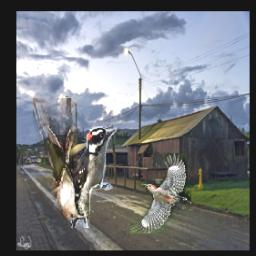Cuckoo: (33, 98, 84, 220)
Woodpecker: (129, 153, 190, 234), (71, 127, 117, 229)
